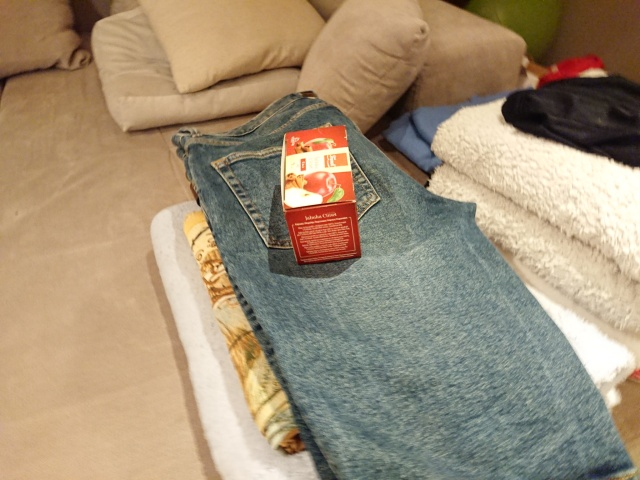Franck Apple Cinnamon Tea 60g: (276, 122, 364, 268)
